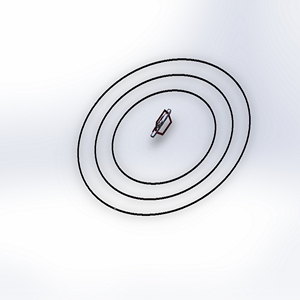circle: (71, 55, 260, 224)
submarine: (142, 103, 182, 140)
